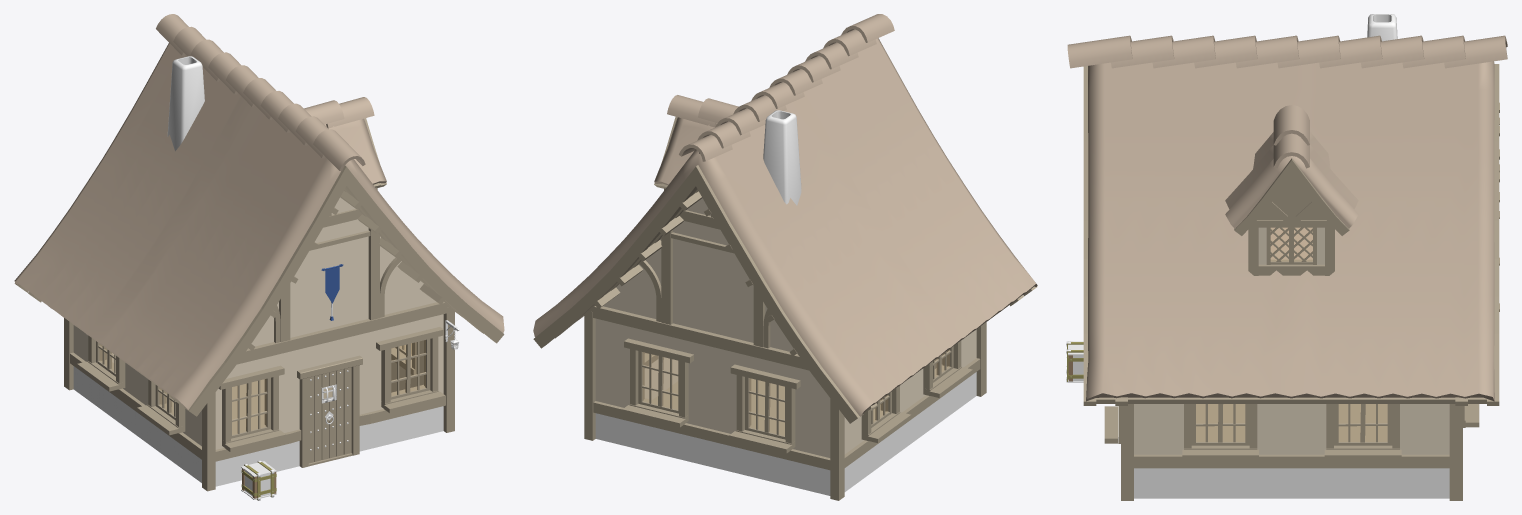
Rendered from eastbrook_office.glb.
3 renders of one model, left to right at view 1: azimuth 30°, elevation 25°; view 2: azimuth 150°, elevation 25°; view 3: azimuth 270°, elevation 25°, orthographic. The views are drawn at different scales.
Visible parts, largest first — view 1: civic-office:roof:village/MI_RoundTiles, civic-office:roof:village/MI_WoodTrim, civic-office:window:village/MI_WoodTrim, civic-office:structure:village/MI_Plaster, civic-office:roof:village/MI_Plaster, civic-office:structure:village/MI_WoodTrim, civic-office:structure:village/MI_UnevenBrick, civic-office:entry-leaf:village/MI_WoodTrim_Wear, civic-office:roof:village/MI_UnevenBrick, civic-office:furniture:props/MI_Trim_Furniture, civic-office:floor:village/MI_WoodTrim, civic-office:structure:village/MI_RockTrim; view 2: civic-office:roof:village/MI_RoundTiles, civic-office:roof:village/MI_WoodTrim, civic-office:structure:village/MI_Plaster, civic-office:window:village/MI_WoodTrim, civic-office:roof:village/MI_Plaster, civic-office:structure:village/MI_UnevenBrick, civic-office:structure:village/MI_WoodTrim, civic-office:roof:village/MI_UnevenBrick, civic-office:floor:village/MI_WoodTrim; view 3: civic-office:roof:village/MI_RoundTiles, civic-office:roof:village/MI_WoodTrim, civic-office:structure:village/MI_UnevenBrick, civic-office:structure:village/MI_Plaster, civic-office:window:village/MI_WoodTrim, civic-office:structure:village/MI_WoodTrim, civic-office:floor:village/MI_WoodTrim, civic-office:roof:village/MI_UnevenBrick, civic-office:furniture:props/MI_Trim_Furniture, civic-office:roof:village/MI_Plaster.
Part boxes in pixels (bbox=[...]): civic-office:roof:village/MI_RoundTiles: bbox=[14, 14, 504, 409]; civic-office:roof:village/MI_WoodTrim: bbox=[14, 118, 504, 416]; civic-office:window:village/MI_WoodTrim: bbox=[77, 327, 445, 452]; civic-office:structure:village/MI_Plaster: bbox=[73, 314, 443, 449]; civic-office:roof:village/MI_Plaster: bbox=[251, 197, 436, 346]; civic-office:structure:village/MI_WoodTrim: bbox=[64, 307, 454, 491]; civic-office:structure:village/MI_UnevenBrick: bbox=[73, 366, 443, 486]; civic-office:entry-leaf:village/MI_WoodTrim_Wear: bbox=[308, 367, 351, 463]; civic-office:roof:village/MI_UnevenBrick: bbox=[167, 56, 204, 151]; civic-office:furniture:props/MI_Trim_Furniture: bbox=[241, 461, 276, 500]; civic-office:floor:village/MI_WoodTrim: bbox=[166, 379, 332, 431]; civic-office:structure:village/MI_RockTrim: bbox=[288, 424, 368, 468]; civic-office:roof:village/MI_RoundTiles: bbox=[533, 14, 1037, 416]; civic-office:roof:village/MI_WoodTrim: bbox=[533, 117, 1037, 423]; civic-office:structure:village/MI_Plaster: bbox=[595, 318, 976, 457]; civic-office:window:village/MI_WoodTrim: bbox=[622, 338, 972, 453]; civic-office:roof:village/MI_Plaster: bbox=[603, 198, 793, 351]; civic-office:structure:village/MI_UnevenBrick: bbox=[595, 372, 976, 495]; civic-office:structure:village/MI_WoodTrim: bbox=[584, 311, 986, 500]; civic-office:roof:village/MI_UnevenBrick: bbox=[763, 110, 801, 205]; civic-office:floor:village/MI_WoodTrim: bbox=[652, 378, 880, 432]; civic-office:roof:village/MI_RoundTiles: bbox=[1067, 35, 1507, 401]; civic-office:roof:village/MI_WoodTrim: bbox=[1083, 64, 1499, 405]; civic-office:structure:village/MI_UnevenBrick: bbox=[1134, 468, 1449, 498]; civic-office:structure:village/MI_Plaster: bbox=[1134, 404, 1449, 454]; civic-office:window:village/MI_WoodTrim: bbox=[1104, 404, 1479, 460]; civic-office:structure:village/MI_WoodTrim: bbox=[1121, 404, 1462, 500]; civic-office:floor:village/MI_WoodTrim: bbox=[1196, 404, 1387, 438]; civic-office:roof:village/MI_UnevenBrick: bbox=[1367, 14, 1397, 41]; civic-office:furniture:props/MI_Trim_Furniture: bbox=[1067, 341, 1083, 382]; civic-office:roof:village/MI_Plaster: bbox=[1258, 227, 1324, 264].
Size of the model in its own units: 8.25 by 7.9 by 8.06.
